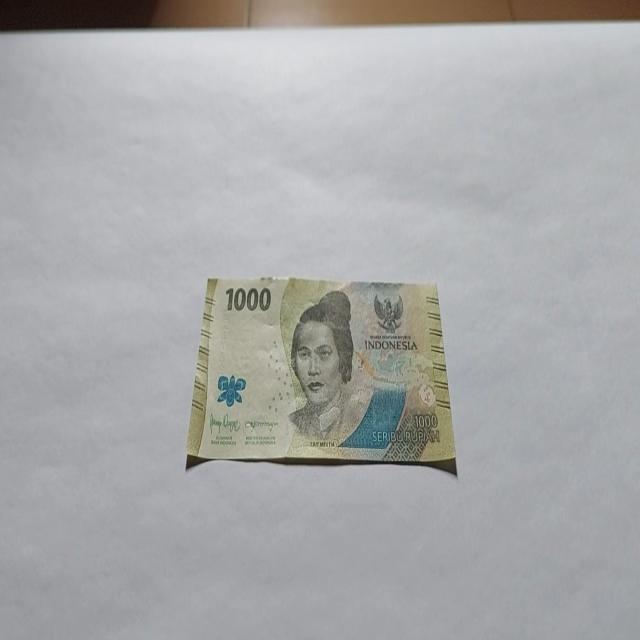seribu rupiah kertas: (185, 274, 458, 476)
